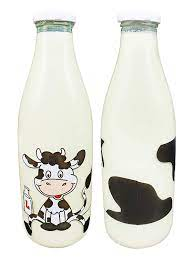milk: (15, 8, 94, 253), (102, 11, 180, 249)
